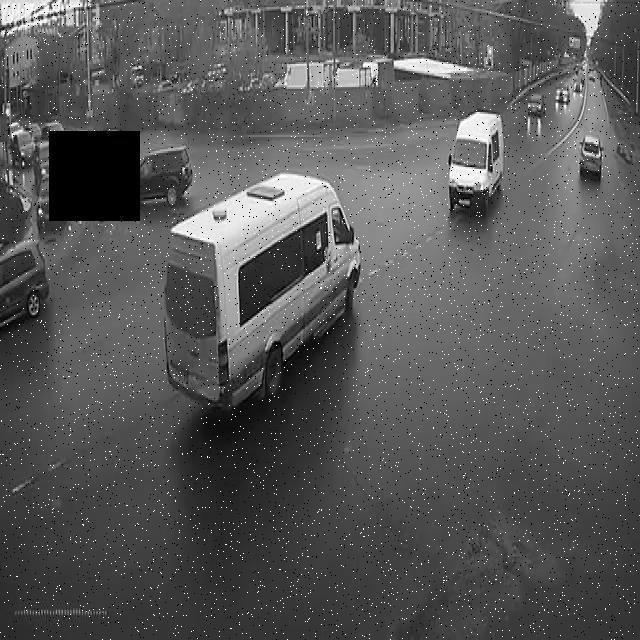accident: (82, 144, 195, 217)
vehicle: (162, 170, 364, 408), (447, 109, 507, 217), (1, 237, 59, 327), (27, 181, 69, 229), (578, 136, 603, 177), (11, 131, 36, 164), (527, 93, 547, 117), (33, 142, 49, 172), (554, 83, 571, 105), (7, 119, 30, 135), (45, 121, 63, 135)
